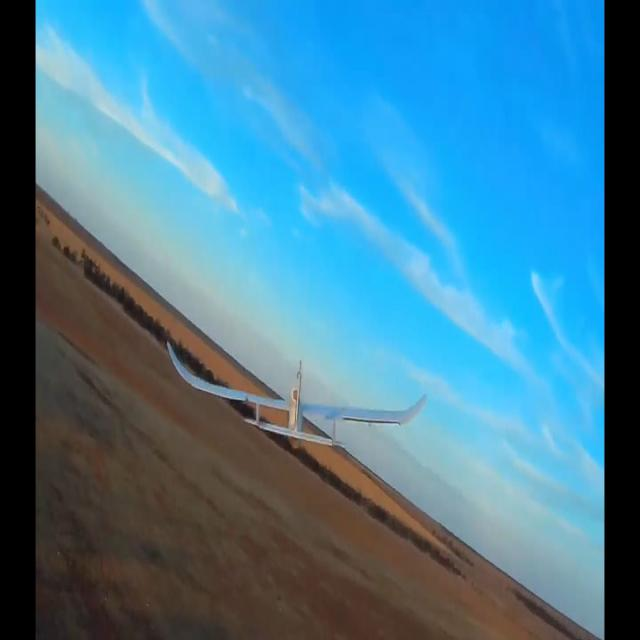iha: (166, 364, 428, 412)
